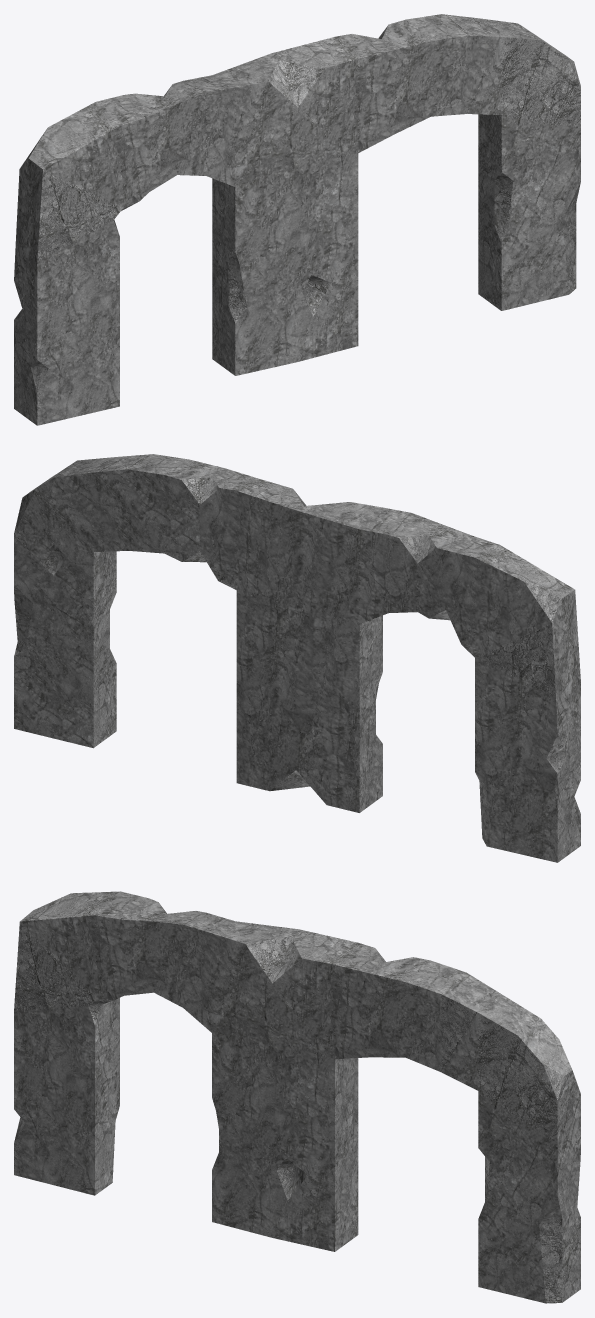
File: materials_3_wall_1.fbx
The picture shows the model from 3 angles, top to bottom: view 1: azimuth 30°, elevation 25°; view 2: azimuth 150°, elevation 25°; view 3: azimuth 330°, elevation 25°; orthographic projection.
Parts seen in each view (by area): view 1: materials_3_wall_1; view 2: materials_3_wall_1; view 3: materials_3_wall_1.
Part boxes in pixels (<box>): materials_3_wall_1: <box>14,14,580,425</box>; materials_3_wall_1: <box>14,454,580,862</box>; materials_3_wall_1: <box>14,891,580,1303</box>.
Bounding box in the file's own units: 600 × 310 × 50.62.
